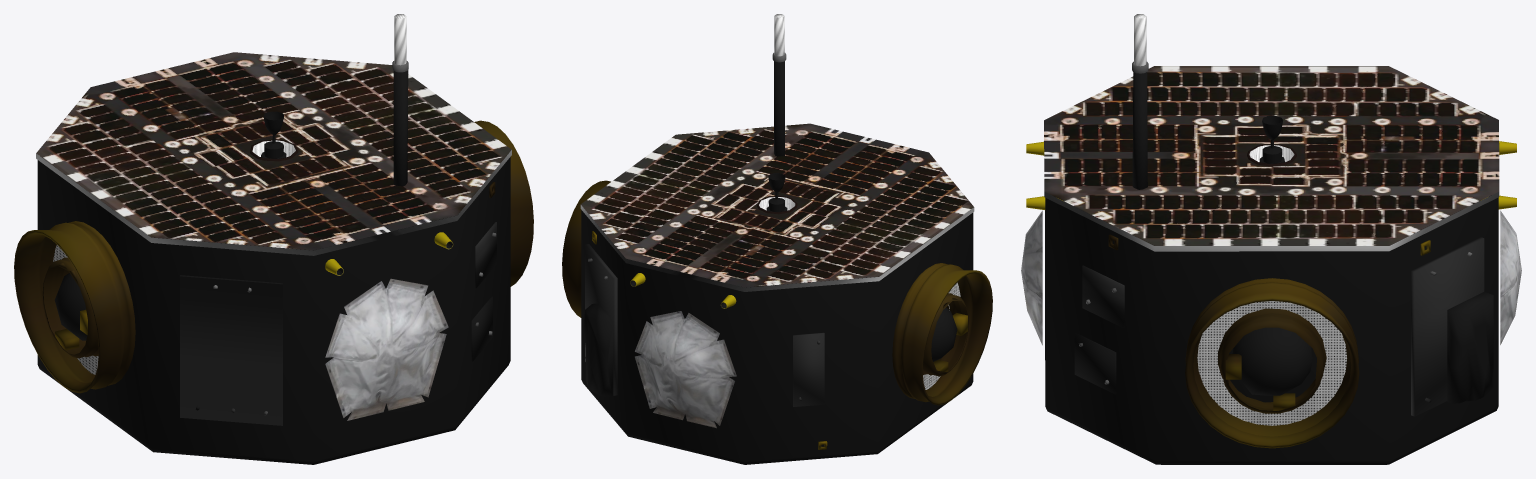
File: ibex.glb
3 views of the same model, side by side, from view 1: azimuth 30°, elevation 25°; view 2: azimuth 150°, elevation 25°; view 3: azimuth 270°, elevation 25° (orthographic). The views are drawn at different scales.
Visible parts, largest first — view 1: shiny_panel, black_krinkle, foil_silver, foil_gold; view 2: shiny_panel, black_krinkle, foil_gold, foil_silver; view 3: shiny_panel, black_krinkle, foil_silver, foil_gold.
Boxes of the visible parts, x1,y1,x2,y2 form: shiny_panel: [36, 14, 511, 420]; black_krinkle: [37, 70, 510, 464]; foil_silver: [36, 61, 511, 425]; foil_gold: [14, 120, 533, 393]; shiny_panel: [581, 14, 973, 428]; black_krinkle: [581, 61, 973, 464]; foil_gold: [562, 180, 992, 449]; foil_silver: [580, 53, 974, 406]; shiny_panel: [1021, 14, 1521, 425]; black_krinkle: [1045, 72, 1498, 464]; foil_silver: [1044, 61, 1499, 416]; foil_gold: [1026, 141, 1516, 448].
Bounding box in the file's own units: 1.18 × 0.9805 × 1.12.
Materials: 4 (3 with a texture image).
